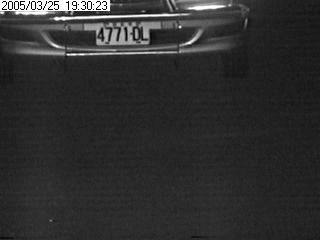plate: (93, 19, 151, 46)
